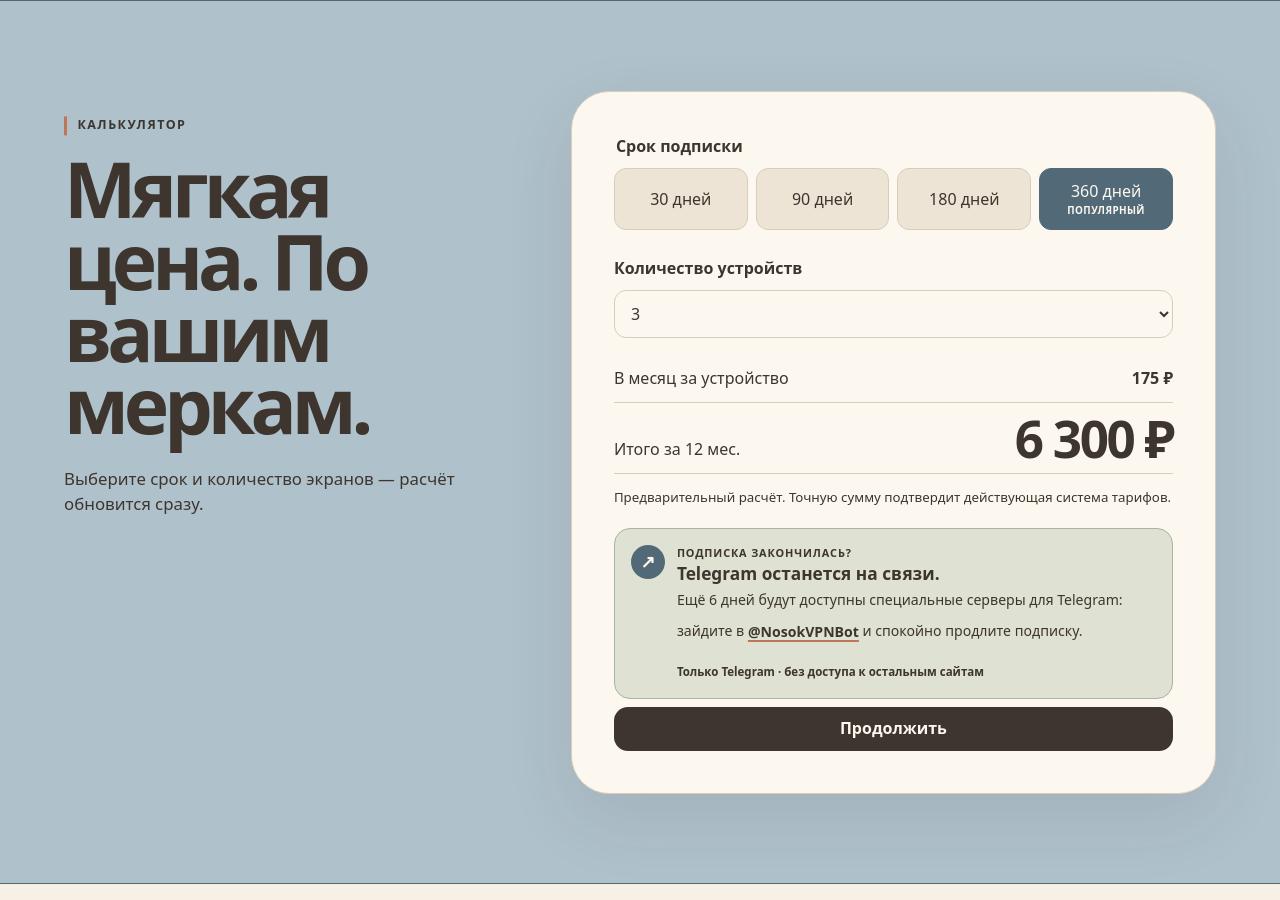
Test: recalculates a preliminary quote and refuses fake checkout
The image size is (1280, 900).
Expected: the dropdown labelled "Количество устройств" shows "3", [614,290,1173,338]
Expected: the text "6 300 ₽" is shown, [1015,415,1173,461]
Step 1. Click the button "90 дней" → x=823, y=199, box [756,168,890,230]
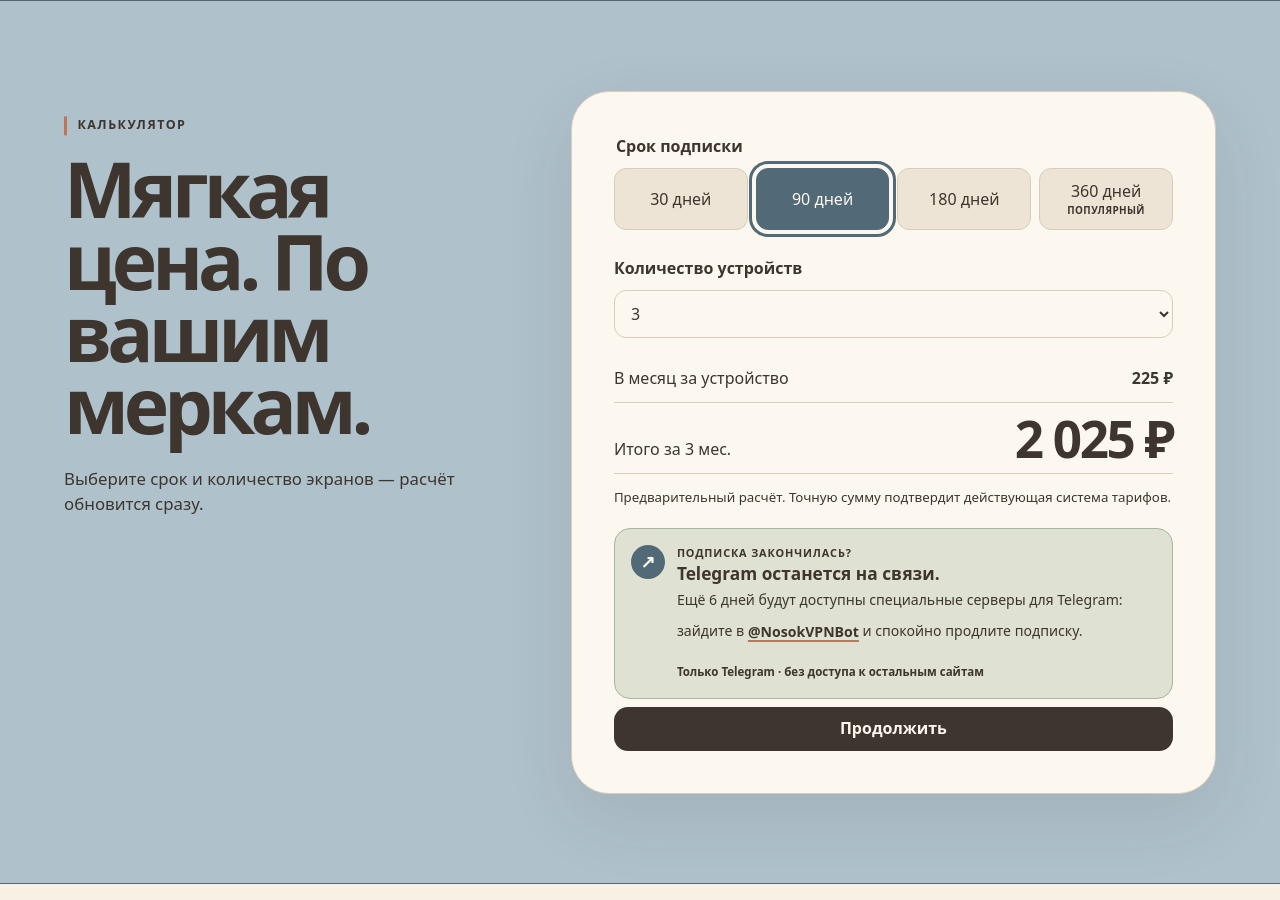
Step 2. Select "3" in the dropdown labelled "Количество устройств" → x=893, y=314, box [614,290,1173,338]
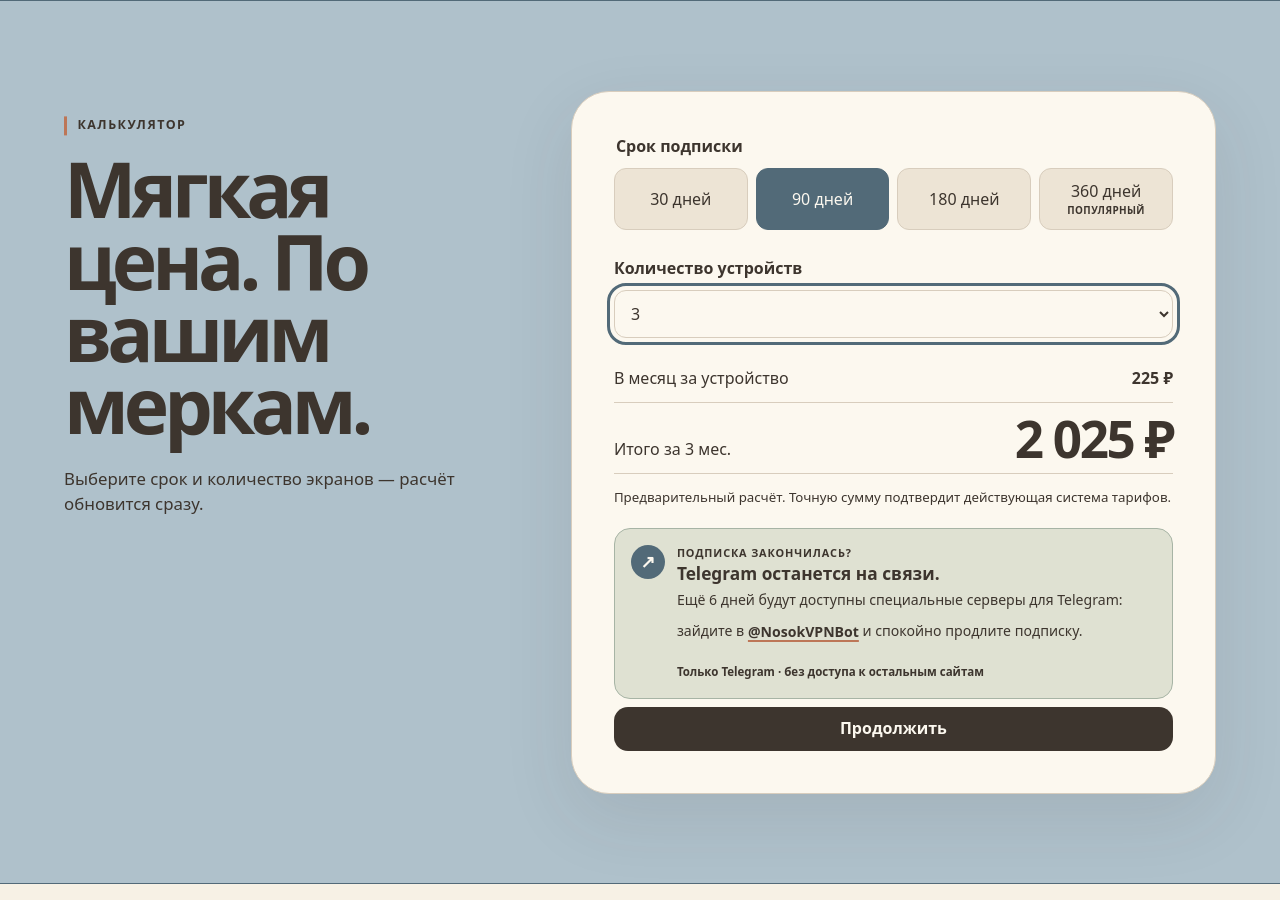
Expected: the text "Предварительный расчёт" is shown, [614,488,1171,506]
Expected: the text "2 025 ₽" is shown, [1015,415,1173,461]
Step 3. Click the button "Продолжить" → x=893, y=729, box [614,707,1173,751]
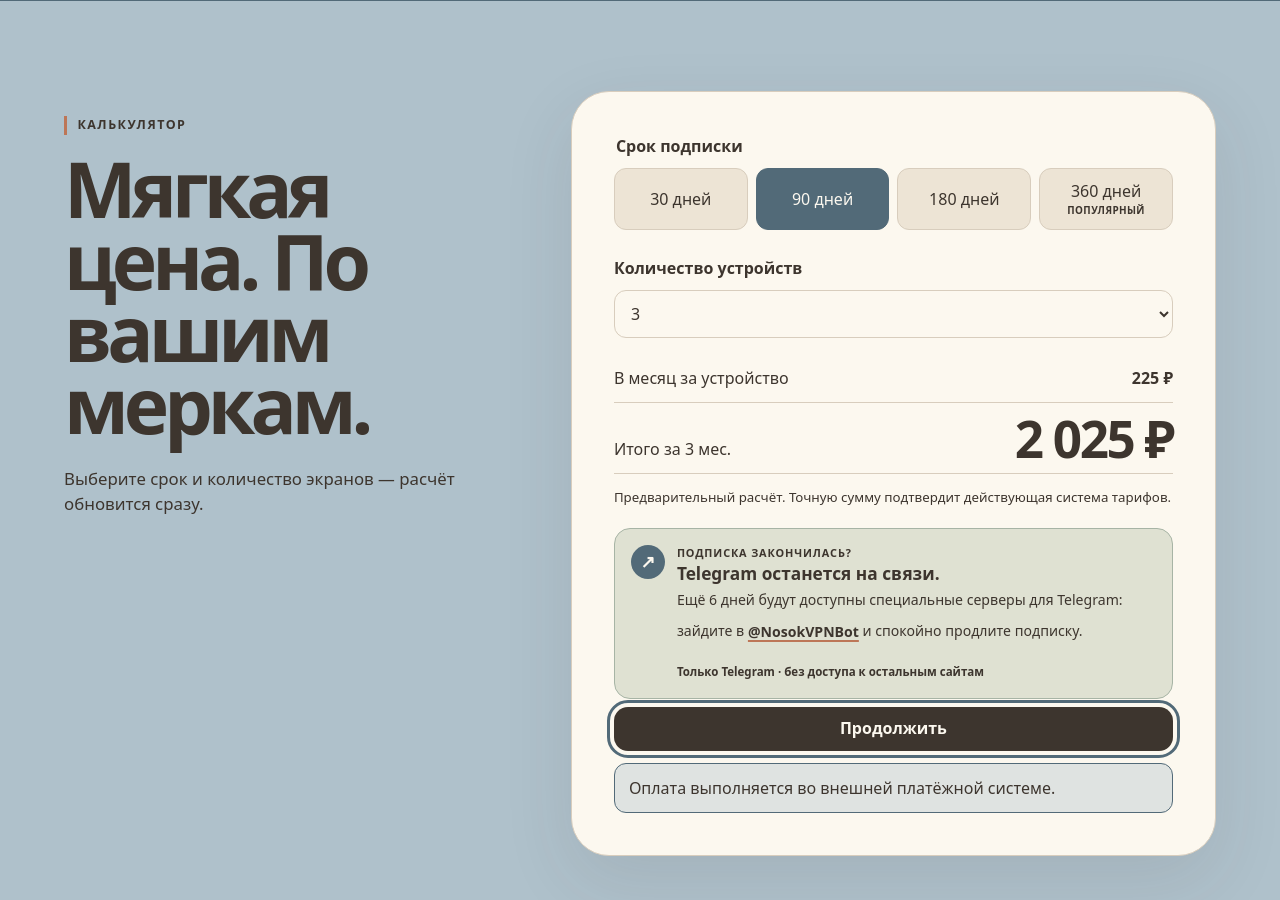
Expected: the text "Оплата выполняется во внешней платёжной системе." is shown, [614,763,1173,813]
